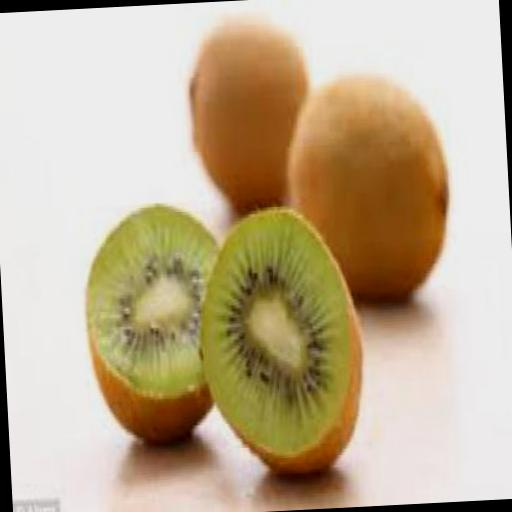biodegradable: (194, 200, 368, 481), (281, 62, 454, 305), (76, 200, 240, 449), (184, 18, 313, 208)
